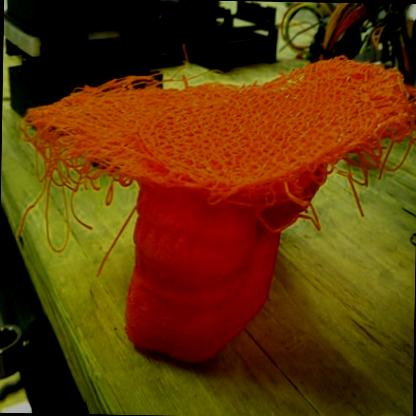fail: (17, 76, 138, 249), (319, 54, 416, 219)
